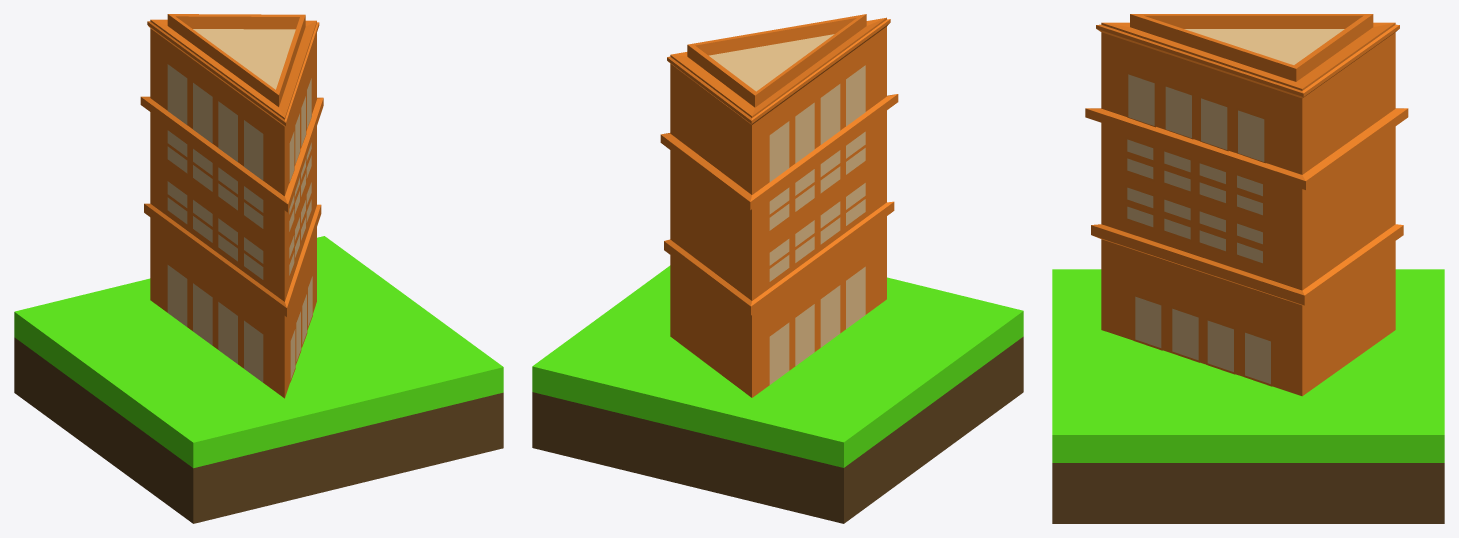
File: Bricks512.glb
3 views of the same model, side by side, from view 1: azimuth 30°, elevation 25°; view 2: azimuth 150°, elevation 25°; view 3: azimuth 270°, elevation 25° (orthographic). The views are drawn at different scales.
Parts seen in each view (by area): view 1: Cube, Cylinder, Plane.001; view 2: Cube, Cylinder, Plane.001; view 3: Cylinder, Cube.
Part boxes in pixels (bbox=[...]): Cube: bbox=[14, 236, 503, 523]; Cylinder: bbox=[140, 14, 323, 398]; Plane.001: bbox=[167, 64, 263, 382]; Cube: bbox=[532, 265, 1023, 523]; Cylinder: bbox=[660, 14, 898, 397]; Plane.001: bbox=[769, 65, 865, 384]; Cylinder: bbox=[1085, 14, 1408, 396]; Cube: bbox=[1052, 269, 1444, 523].
Size of the model in its own units: 2 by 2.3 by 2.
